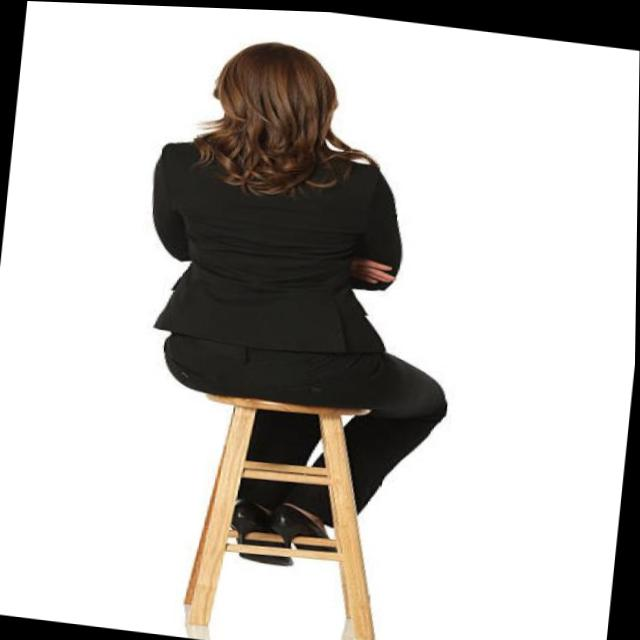no helmet: (175, 16, 369, 213)
